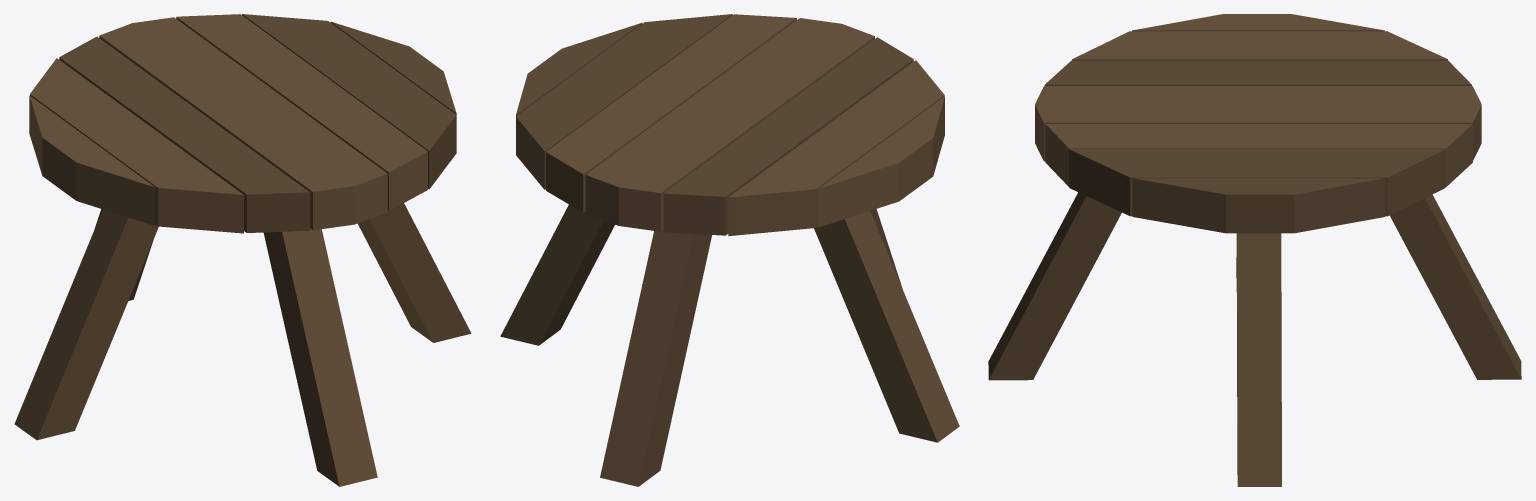
The model's file is Stool.glb.
The picture shows the model from 3 angles, left to right: view 1: azimuth 30°, elevation 25°; view 2: azimuth 150°, elevation 25°; view 3: azimuth 270°, elevation 25°; orthographic projection.
Parts seen in each view (by area): view 1: Stool; view 2: Stool; view 3: Stool.
Boxes of the visible parts, box(x1,y1,x2,y2) form: Stool: box(14, 14, 471, 486); Stool: box(500, 14, 959, 486); Stool: box(988, 14, 1521, 486).
Size of the model in its own units: 0.4504 by 0.2713 by 0.4752.
